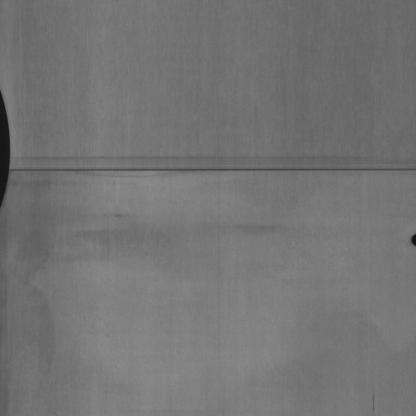crescent_gap: (0, 77, 14, 206)
welding_line: (6, 161, 416, 187)
